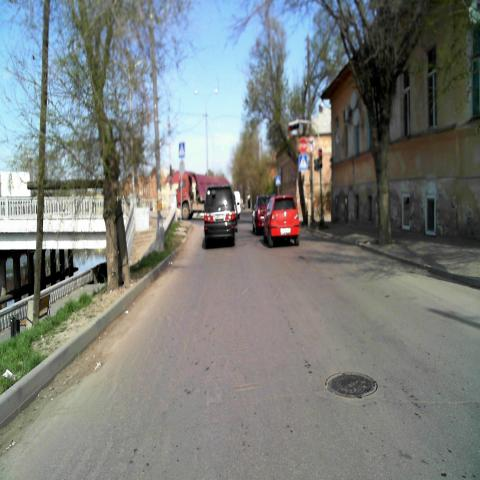2_5: (298, 136, 308, 152)
3_18: (308, 137, 315, 152)
